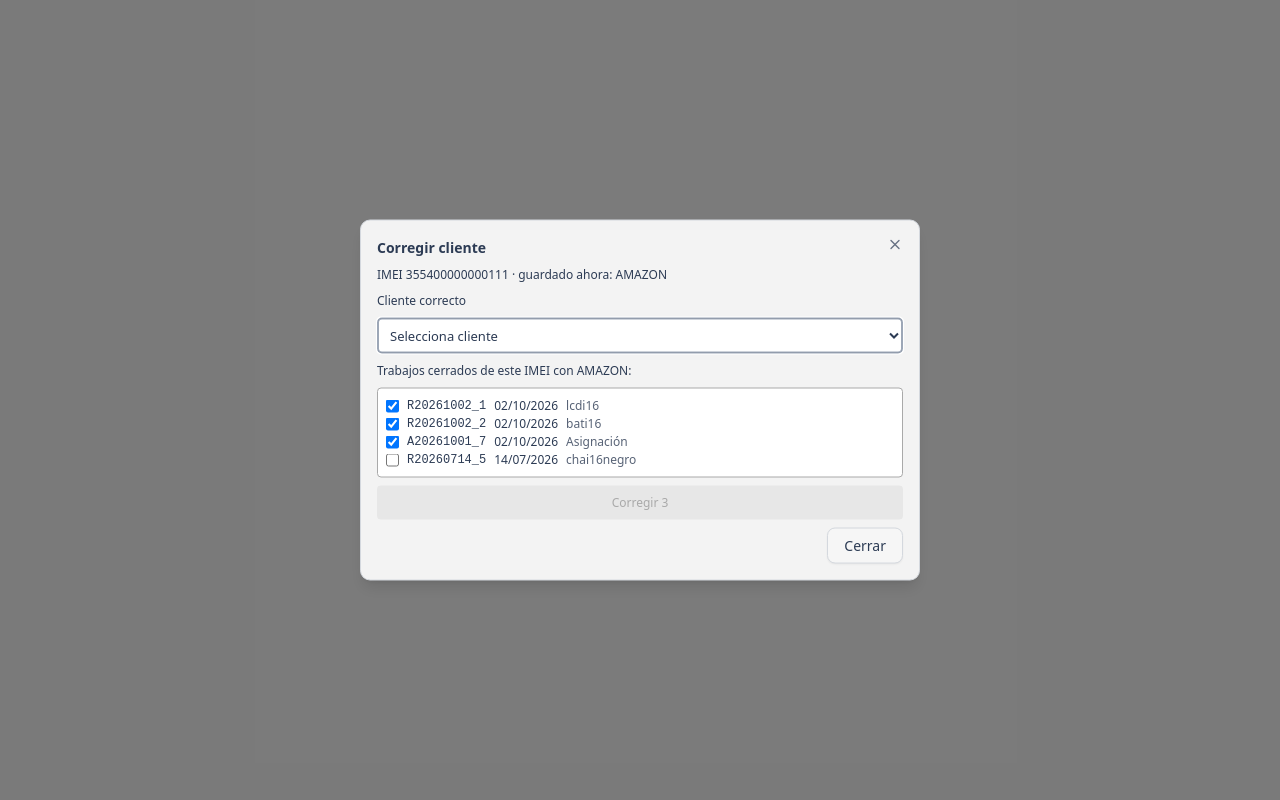
Test: CorregirClienteDialog › si el servidor responde 409 muestra el mensaje y el modal sigue abierto
This screenshot has width=1280, height=800.
Expected: the text "R20261002_1" is shown, [407, 396, 486, 414]
Select "WEB" in the dropdown labelled "Cliente correcto" at (640, 336), box [377, 318, 903, 354]
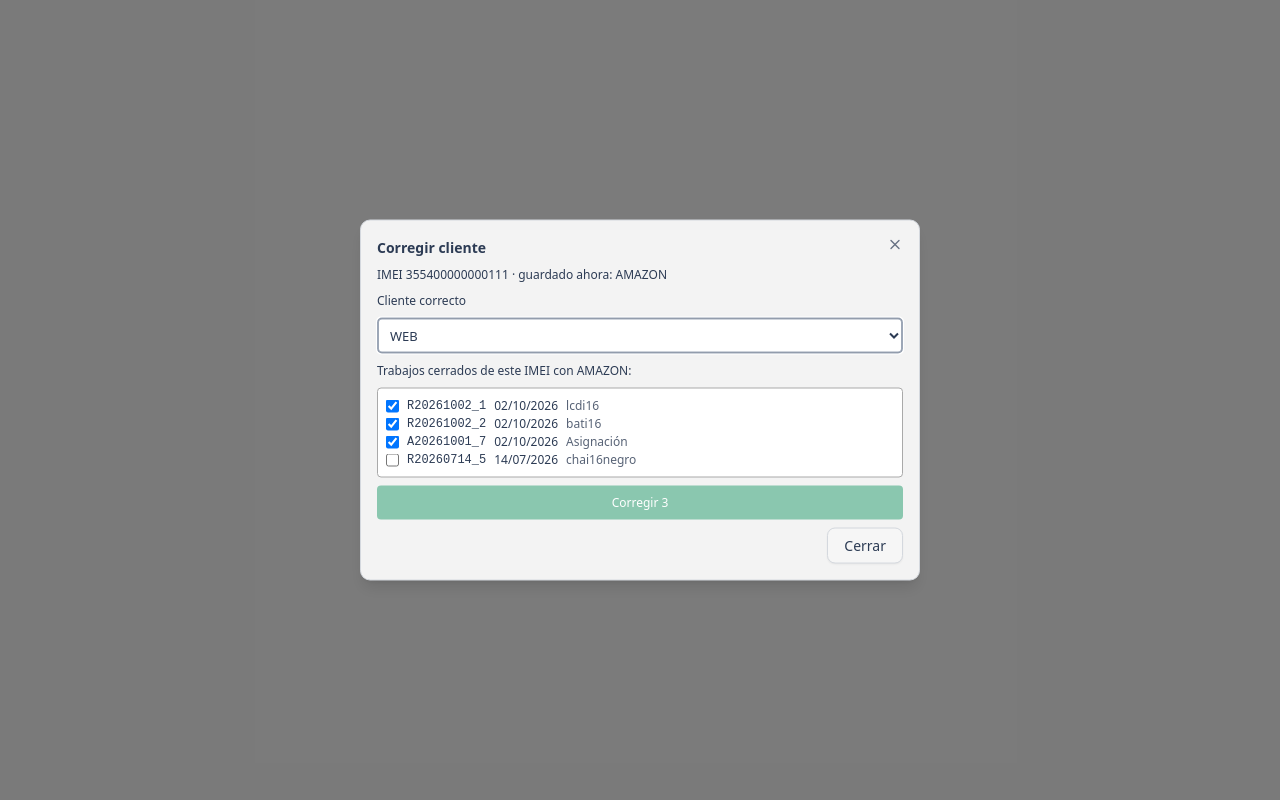
Click the button "Corregir 3" at (640, 502), box [377, 486, 903, 520]
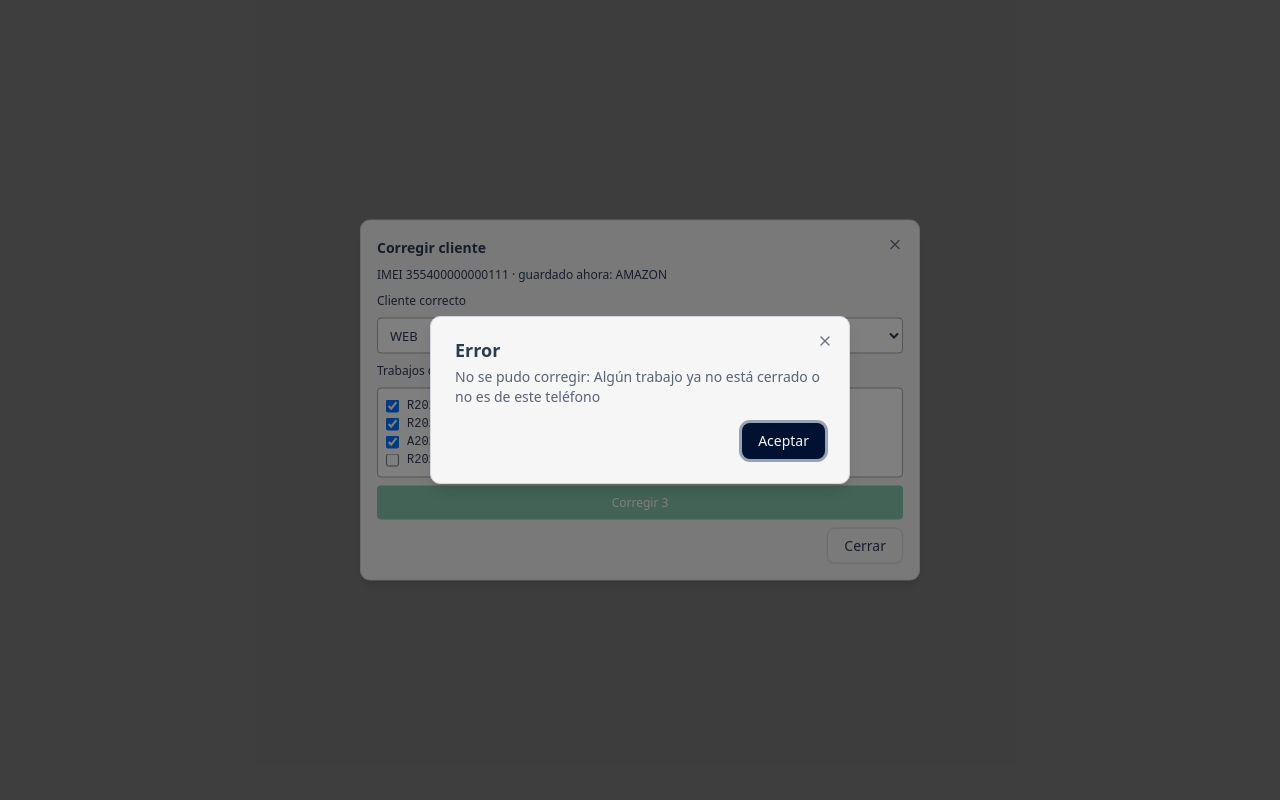
Expected: the text "No se pudo corregir: Algún trabajo ya no está cerrado" is shown, [455, 367, 820, 406]
